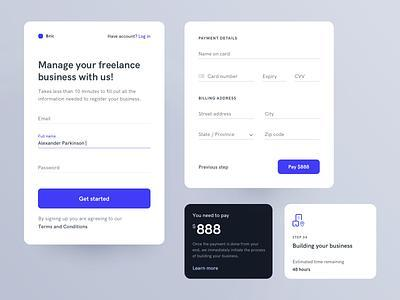button: (39, 189, 152, 210), (279, 160, 321, 175)
label: (38, 61, 143, 83), (37, 88, 143, 103), (106, 32, 153, 41), (292, 243, 354, 249)
